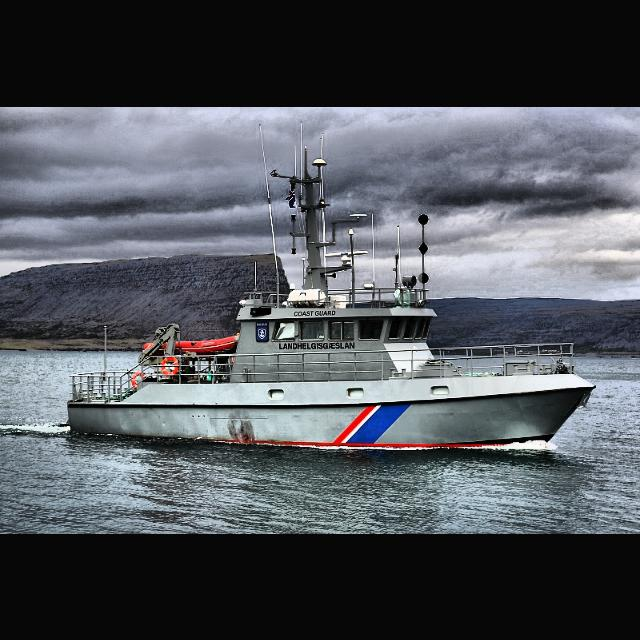patrol_vessel: (66, 144, 600, 450)
